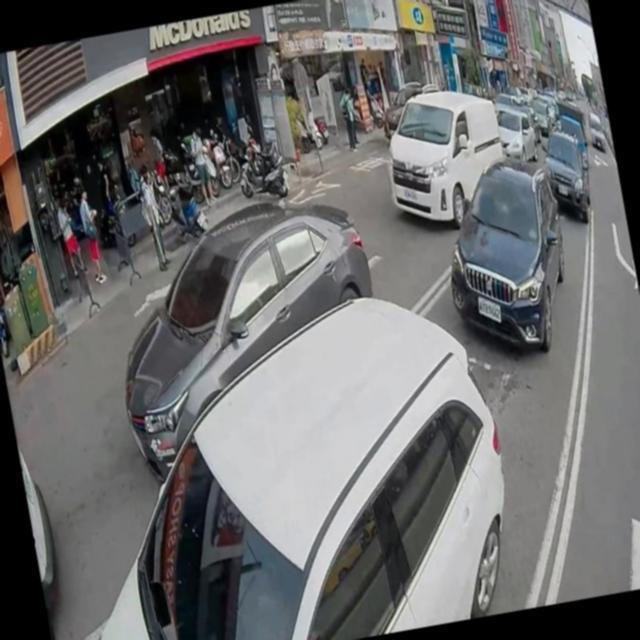person: (48, 182, 90, 302), (133, 166, 171, 271), (74, 183, 110, 292), (186, 125, 217, 206), (336, 82, 360, 150), (148, 129, 168, 182)
